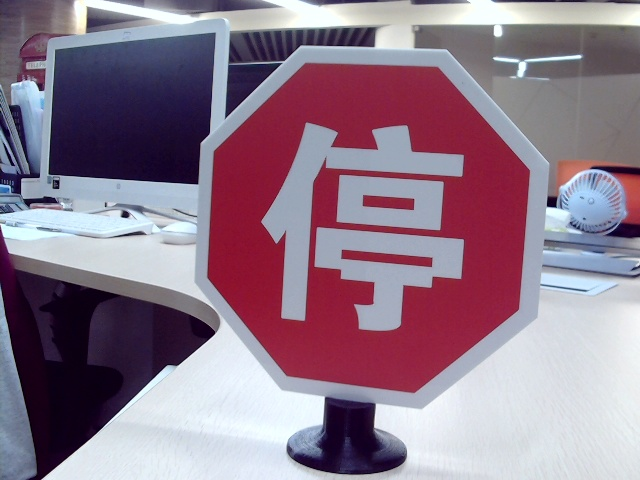stop: (261, 113, 465, 333)
